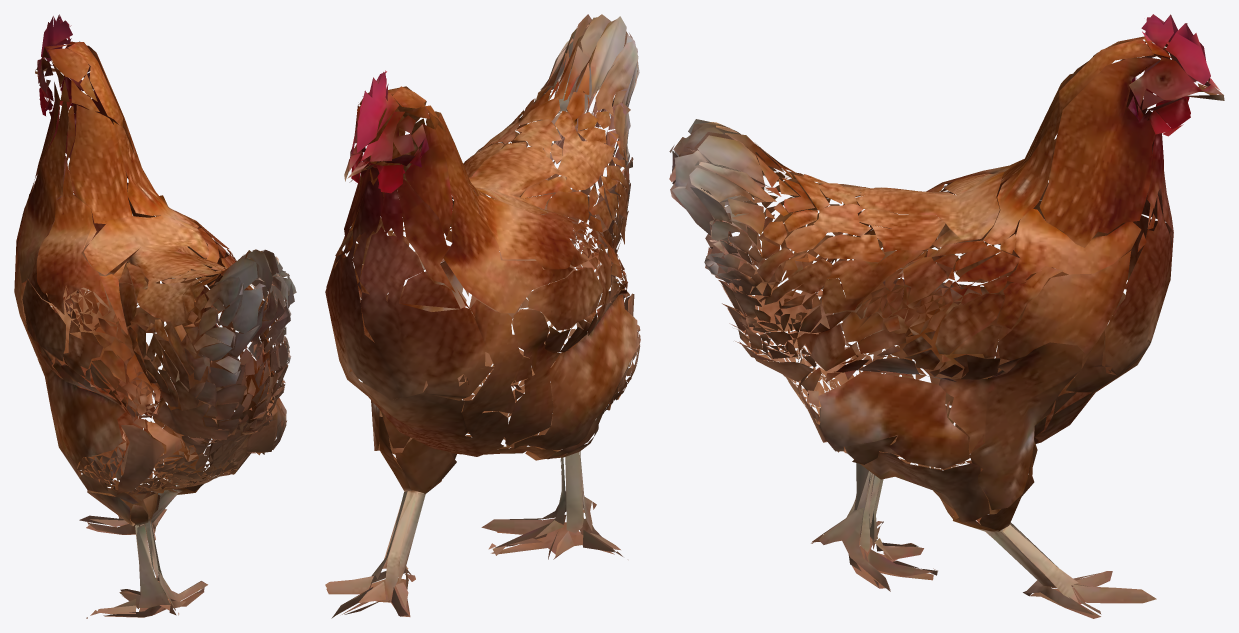
File: obs_hen.glb
The picture shows the model from 3 angles, left to right: view 1: azimuth 30°, elevation 25°; view 2: azimuth 150°, elevation 25°; view 3: azimuth 270°, elevation 25°; orthographic projection. The views are drawn at different scales.
Visible parts, largest first — view 1: material; view 2: material; view 3: material.
Part boxes in pixels (<box>): material: <box>14,14,296,618</box>; material: <box>325,14,640,618</box>; material: <box>669,14,1224,618</box>.
Size of the model in its own units: 0.4062 by 0.9752 by 0.8596.
Materials: 1 (1 with a texture image).
